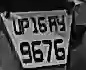1: (29, 16, 39, 34)
6: (53, 37, 68, 62), (31, 39, 44, 64), (36, 16, 48, 34)
7: (42, 38, 54, 64)
9: (20, 39, 33, 66)
A: (48, 15, 57, 34)
P: (21, 16, 30, 35)
U: (12, 18, 23, 36)
Y: (56, 14, 68, 33)
